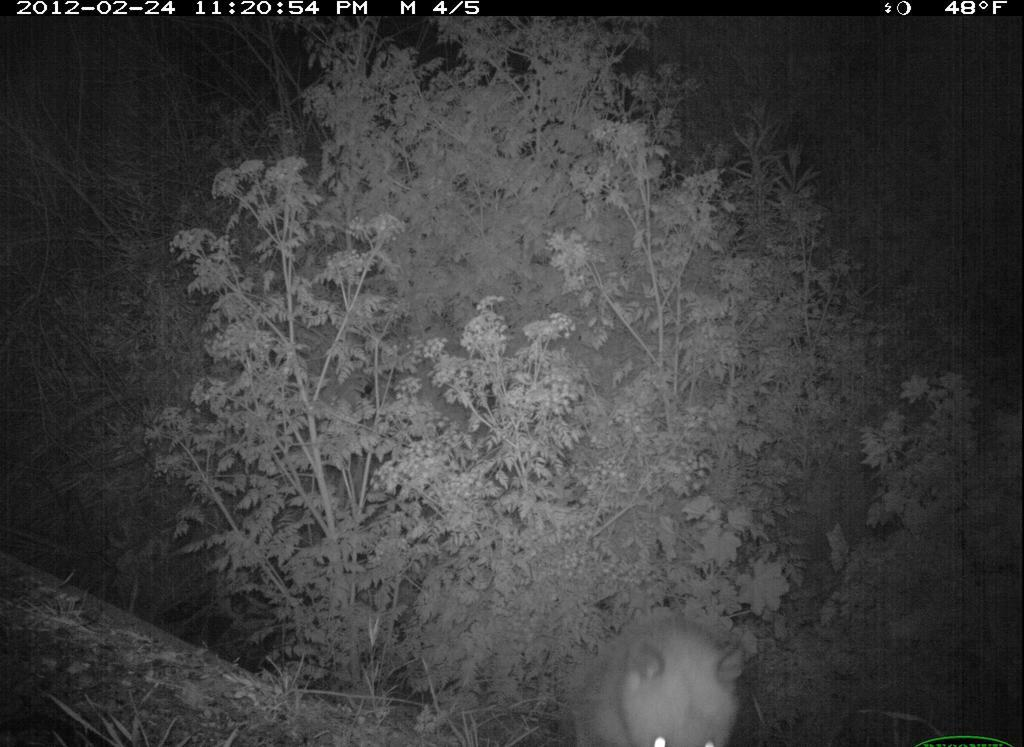opossum: (561, 603, 760, 747)
